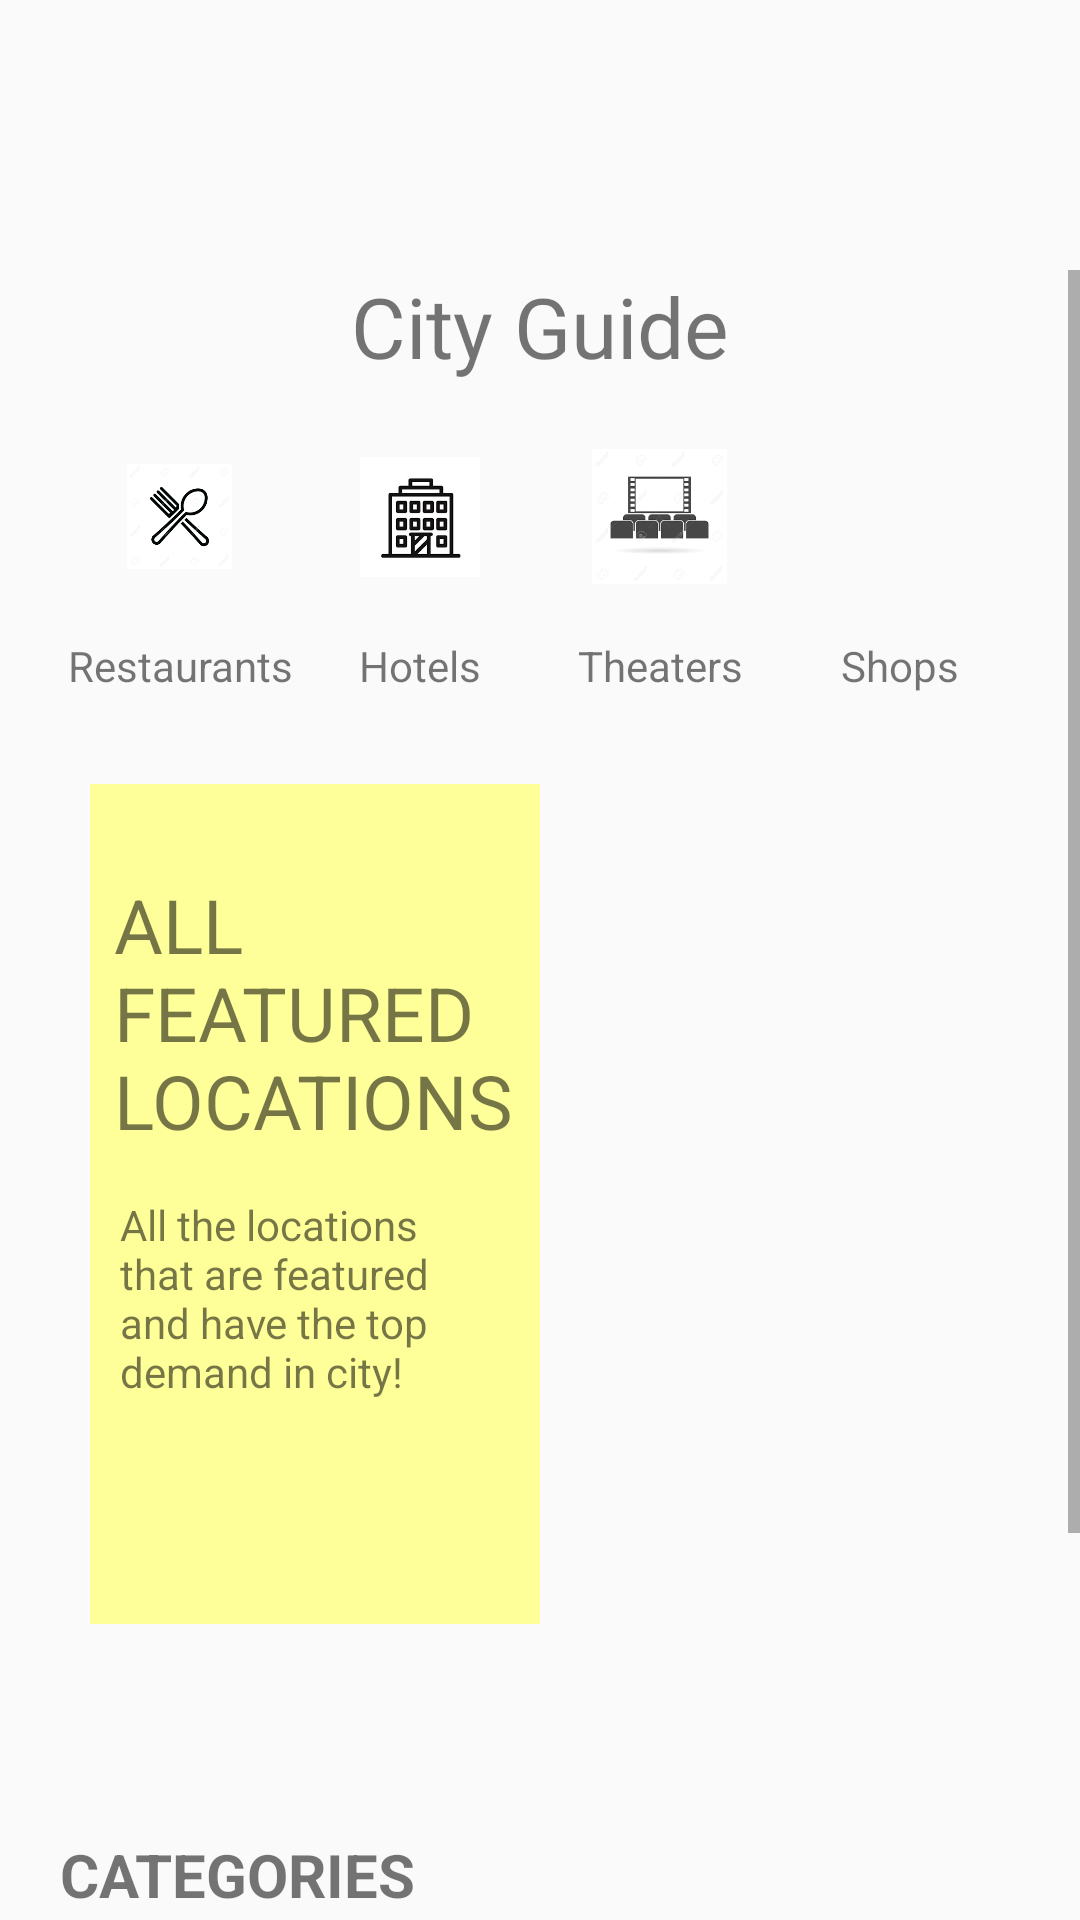

Icons on this 1080px x 1920px Android screen, each with the point to tap as [x,y]:
movie hall: [659,514]
